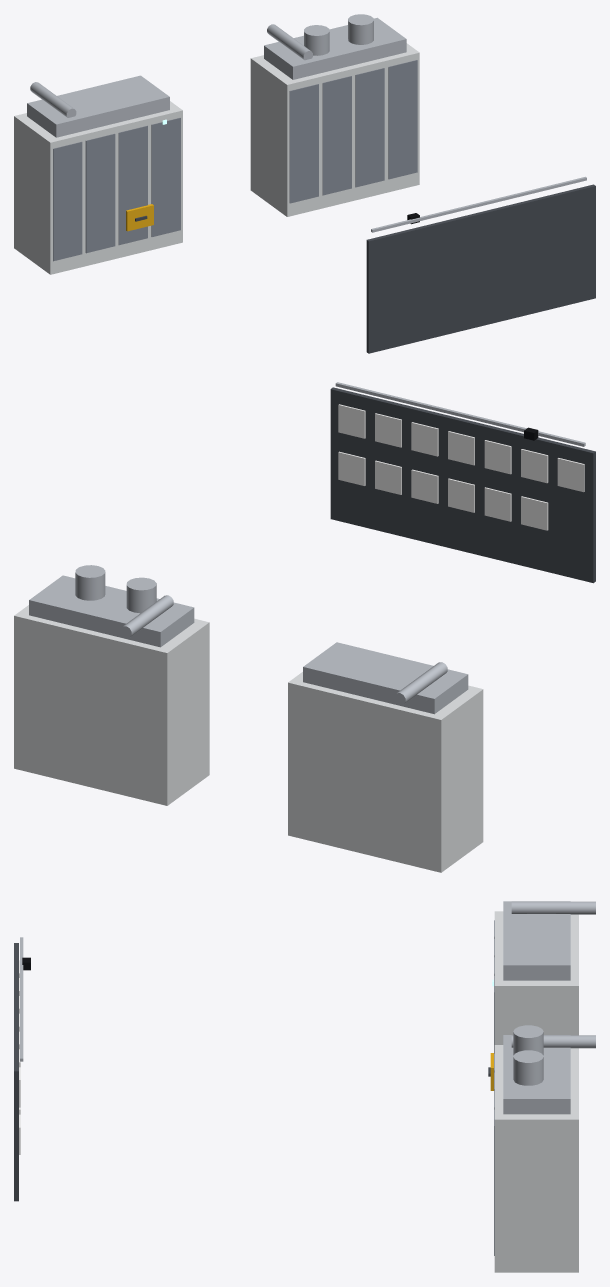
File: eclss_and_lighting_calibration.glb
3 renders of one model, top to bottom at view 1: azimuth 30°, elevation 25°; view 2: azimuth 150°, elevation 25°; view 3: azimuth 270°, elevation 25°, orthographic. The views are drawn at different scales.
Visible parts, largest first — view 1: white_plastic; view 2: white_plastic; view 3: white_plastic.
Boxes of the visible parts, x1,y1,x2,y2 form: white_plastic: (14, 14, 595, 353); white_plastic: (14, 382, 595, 872); white_plastic: (14, 901, 595, 1272).
Size of the model in its own units: 5.85 by 2.55 by 6.9.
Materials: 2 (2 with a texture image).
